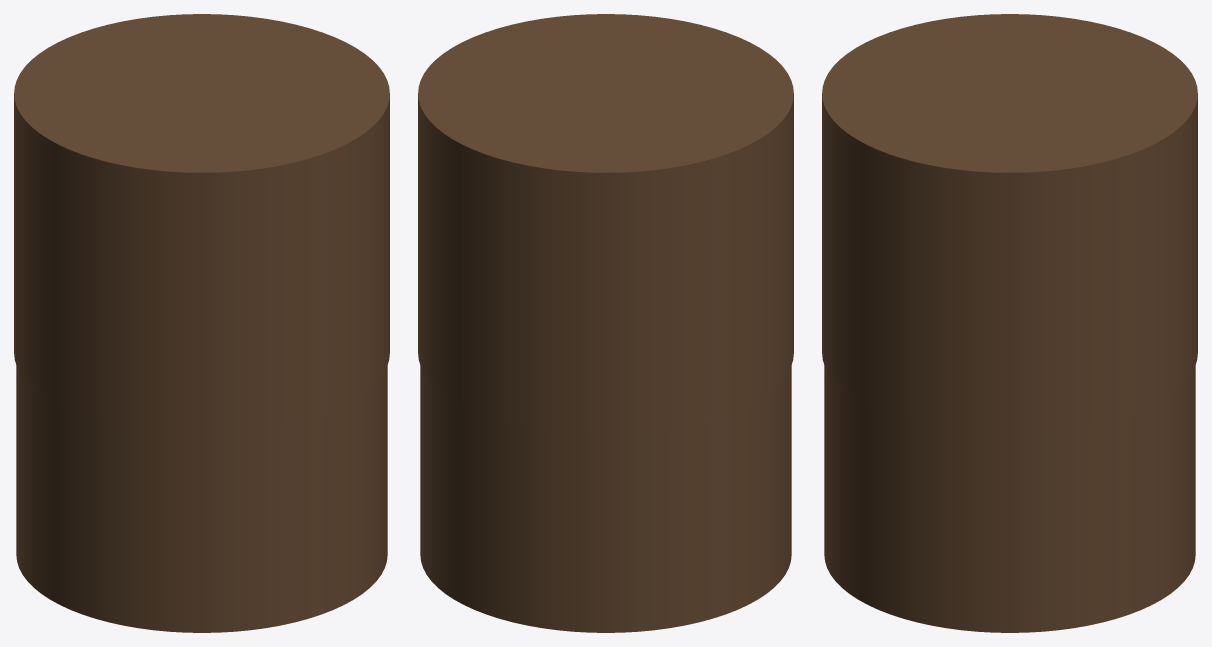
File: stem-cross-section.glb
3 views of the same model, side by side, from view 1: azimuth 30°, elevation 25°; view 2: azimuth 150°, elevation 25°; view 3: azimuth 270°, elevation 25° (orthographic).
Parts seen in each view (by area): view 1: Stem_Cover, Stem_Continuation, Bark; view 2: Stem_Cover, Stem_Continuation, Bark; view 3: Stem_Cover, Stem_Continuation, Bark.
Boxes of the visible parts, x1,y1,x2,y2 form: Stem_Cover: (14, 14, 389, 432); Stem_Continuation: (16, 455, 387, 632); Bark: (16, 366, 387, 531); Stem_Cover: (418, 14, 793, 432); Stem_Continuation: (420, 455, 791, 632); Bark: (420, 366, 791, 531); Stem_Cover: (822, 14, 1197, 432); Stem_Continuation: (824, 455, 1195, 632); Bark: (824, 366, 1195, 531).
Size of the model in its own units: 1.01 by 1.37 by 1.01.
